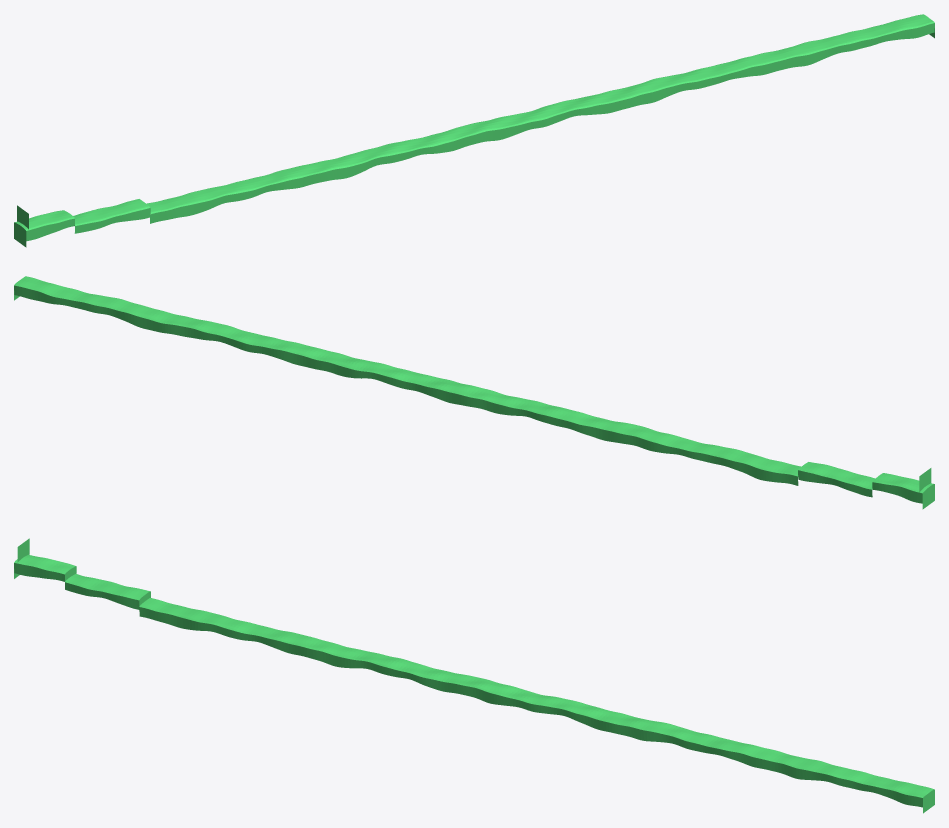
The model's file is HideTerrainCollisionCompact.glb.
3 renders of one model, top to bottom at view 1: azimuth 30°, elevation 25°; view 2: azimuth 150°, elevation 25°; view 3: azimuth 330°, elevation 25°, orthographic.
Visible parts, largest first — view 1: Sonic_Sector_0, Sonic_Sector_4, Sonic_Sector_11, Sonic_Sector_7, Sonic_Sector_2, Sonic_Sector_9, Sonic_Sector_6, Sonic_Sector_10, Sonic_Sector_1, Sonic_Sector_8, Sonic_Sector_5, Sonic_Sector_3 (+2 smaller); view 2: Sonic_Sector_0, Sonic_Sector_4, Sonic_Sector_11, Sonic_Sector_2, Sonic_Sector_7, Sonic_Sector_6, Sonic_Sector_9, Sonic_Sector_10, Sonic_Sector_1, Sonic_Sector_8, Sonic_Sector_5, Sonic_Sector_3 (+2 smaller); view 3: Sonic_Sector_0, Sonic_Sector_4, Sonic_Sector_1, Sonic_Sector_11, Sonic_Sector_7, Sonic_Sector_9, Sonic_Sector_2, Sonic_Sector_6, Sonic_Sector_10, Sonic_Sector_8, Sonic_Sector_5, Sonic_Sector_12 (+2 smaller).
Boxes of the visible parts, box(x1,y1,x2,y2) form: Sonic_Sector_0: box(14, 205, 91, 247); Sonic_Sector_4: box(279, 155, 359, 188); Sonic_Sector_11: box(748, 41, 823, 75); Sonic_Sector_7: box(479, 105, 558, 141); Sonic_Sector_2: box(149, 187, 225, 221); Sonic_Sector_9: box(613, 74, 689, 108); Sonic_Sector_6: box(414, 122, 489, 154); Sonic_Sector_10: box(678, 57, 757, 89); Sonic_Sector_1: box(80, 199, 159, 230); Sonic_Sector_8: box(548, 90, 624, 121); Sonic_Sector_5: box(348, 139, 424, 173); Sonic_Sector_3: box(215, 171, 290, 202); Sonic_Sector_0: box(857, 468, 934, 509); Sonic_Sector_4: box(589, 418, 668, 451); Sonic_Sector_11: box(125, 304, 200, 337); Sonic_Sector_2: box(723, 449, 798, 483); Sonic_Sector_7: box(389, 369, 467, 404); Sonic_Sector_6: box(458, 385, 534, 416); Sonic_Sector_9: box(258, 337, 335, 370); Sonic_Sector_10: box(190, 320, 269, 353); Sonic_Sector_1: box(788, 462, 867, 492); Sonic_Sector_8: box(324, 352, 400, 384); Sonic_Sector_5: box(524, 401, 599, 435); Sonic_Sector_3: box(657, 434, 733, 465); Sonic_Sector_0: box(14, 538, 90, 593); Sonic_Sector_4: box(279, 632, 358, 667); Sonic_Sector_1: box(80, 577, 159, 618); Sonic_Sector_11: box(746, 746, 822, 780); Sonic_Sector_7: box(479, 680, 557, 713); Sonic_Sector_9: box(612, 714, 688, 745); Sonic_Sector_2: box(148, 600, 224, 631); Sonic_Sector_6: box(413, 665, 490, 698); Sonic_Sector_10: box(678, 730, 756, 764); Sonic_Sector_8: box(547, 697, 623, 732); Sonic_Sector_5: box(348, 649, 423, 680); Sonic_Sector_12: box(812, 762, 888, 793).
Bounding box in the file's own units: 350 × 16.77 × 8.74.
